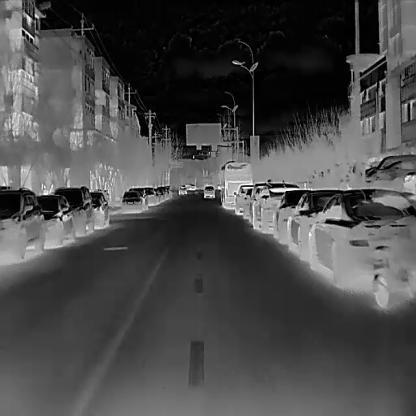car: (308, 188, 416, 307), (286, 188, 338, 257), (0, 186, 44, 267), (273, 188, 312, 243), (53, 184, 93, 237), (248, 181, 288, 231), (36, 193, 73, 247), (218, 161, 254, 210), (87, 190, 109, 232), (233, 184, 258, 215), (121, 189, 145, 213), (142, 188, 156, 206), (203, 184, 214, 198), (178, 184, 186, 194)
